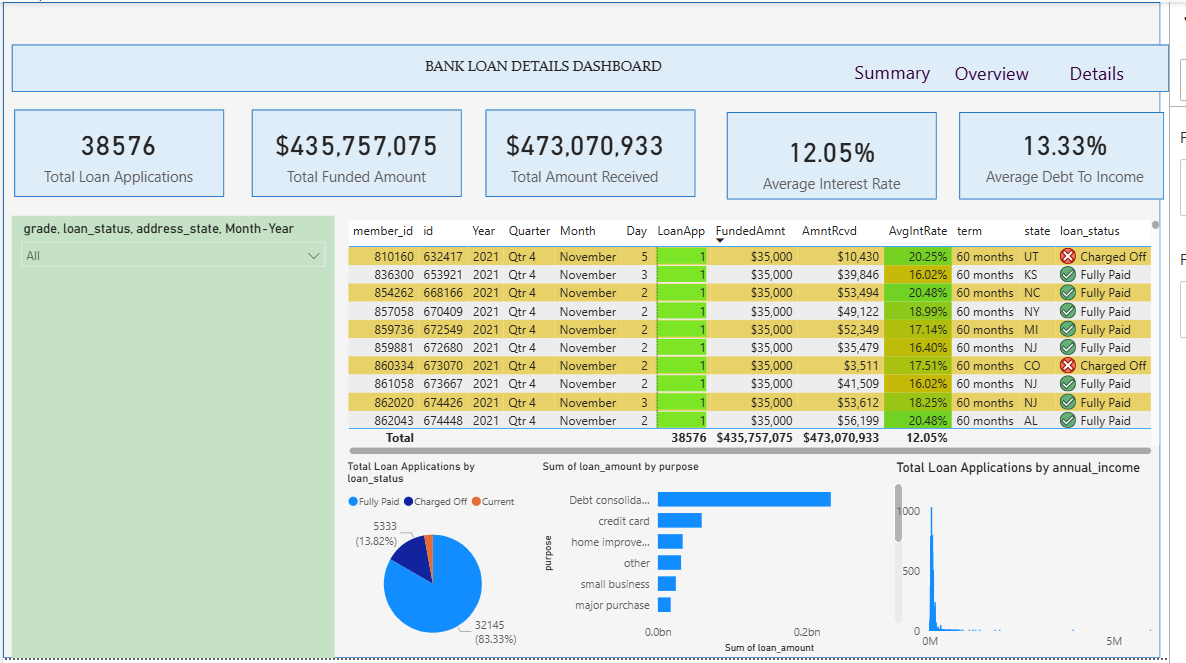

This screenshot's page, from the dashboard's own definition file:
{"tool":"powerbi","page":{"name":"Bank Loan Details Dashboard","canvas":[1280,720],"ordinal":2},"visuals":[{"type":"shape","box":[0,0,1270.7,720.4],"z":0},{"type":"shape","box":[9.6,46.7,1270.7,52.1],"z":1000},{"type":"textbox","box":[458.3,56.3,301.9,42.5],"z":2000},{"type":"shape","box":[12.3,118,230.5,96.1],"z":3000},{"type":"card","fields":{"Values":["financial_loan.Total Loan Applications"]},"box":[31.6,126.2,190.7,79.6],"z":4000},{"type":"shape","box":[273.1,118,230.5,96.1],"z":5000},{"type":"card","fields":{"Values":["financial_loan.Total Funded Amount"]},"box":[284,126.2,208.6,79.6],"z":6000},{"type":"shape","box":[529.7,118,230.5,96.1],"z":7000},{"type":"shape","box":[794.5,120.8,230.5,96.1],"z":8000},{"type":"shape","box":[1049.7,120.8,225,96.1],"z":9000},{"type":"card","fields":{"Values":["financial_loan.Total Amount Received"]},"box":[539.3,126.2,199,79.6],"z":10000},{"type":"card","fields":{"Values":["financial_loan.Avg_int_rate"]},"box":[808.2,130.4,203.1,86.4],"z":11000},{"type":"card","fields":{"Values":["financial_loan.Avg_dti"]},"box":[1070.3,126.2,190.7,79.6],"z":12000},{"type":"slicer","fields":{"Values":["financial_loan.grade","financial_loan.loan_status","financial_loan.address_state","financial_loan.Month-Year"]},"box":[9.6,234.6,354,485.8],"z":13000},{"type":"tableEx","fields":{"Values":["financial_loan.member_id","financial_loan.id","financial_loan.issue_date.Variation.Date Hierarchy.Year","financial_loan.issue_date.Variation.Date Hierarchy.Quarter","financial_loan.issue_date.Variation.Date Hierarchy.Month","financial_loan.issue_date.Variation.Date Hierarchy.Day","financial_loan.Total Loan Applications","financial_loan.Total Funded Amount","financial_loan.Total Amount Received","financial_loan.Average Interest Rate","financial_loan.term","financial_loan.address_state"]},"box":[373.2,234.6,901.5,267.6],"z":14000},{"type":"pieChart","fields":{"Category":["financial_loan.loan_status"],"Y":["financial_loan.Total Loan Applications"]},"box":[373.2,502.2,197.6,218.2],"z":15000},{"type":"barChart","fields":{"Y":["Sum(financial_loan.loan_amount)"],"Category":["financial_loan.purpose"]},"box":[587.3,502.2,404.8,218.2],"z":16000},{"type":"clusteredColumnChart","fields":{"Y":["financial_loan.Total Loan Applications"],"Category":["financial_loan.annual_income"]},"box":[975.6,502.2,299.1,218.2],"z":17000},{"type":"actionButton","box":[1140.3,56.3,120.8,42.5],"z":18000},{"type":"actionButton","box":[1025,56.3,120.8,42.5],"z":19000},{"type":"actionButton","box":[926.2,56.3,100.2,39.8],"z":20000}]}

Visuals, with their boxes on the page's 1280x720 design canvas (x1, y1, x2, y2). These are canvas units, not pixel positions in the 1186x663 screenshot, which may show the page scaled, cropped or inside an application window:
shape: 0 0 1271 720
shape: 10 47 1280 99
textbox: 458 56 760 99
shape: 12 118 243 214
card - financial_loan.Total Loan Applications: 32 126 222 206
shape: 273 118 504 214
card - financial_loan.Total Funded Amount: 284 126 493 206
shape: 530 118 760 214
shape: 794 121 1025 217
shape: 1050 121 1275 217
card - financial_loan.Total Amount Received: 539 126 738 206
card - financial_loan.Avg_int_rate: 808 130 1011 217
card - financial_loan.Avg_dti: 1070 126 1261 206
slicer - financial_loan.grade x financial_loan.loan_status: 10 235 364 720
tableEx - financial_loan.member_id x financial_loan.id: 373 235 1275 502
pieChart - financial_loan.loan_status x financial_loan.Total Loan Applications: 373 502 571 720
barChart - Sum(financial_loan.loan_amount) x financial_loan.purpose: 587 502 992 720
clusteredColumnChart - financial_loan.Total Loan Applications x financial_loan.annual_income: 976 502 1275 720
actionButton: 1140 56 1261 99
actionButton: 1025 56 1146 99
actionButton: 926 56 1026 96
